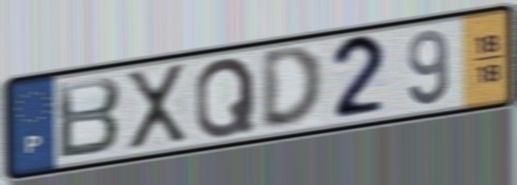2: (325, 31, 394, 128)
9: (405, 27, 451, 108)
B: (53, 74, 124, 163)
D: (258, 43, 327, 131)
Q: (192, 54, 258, 142)
X: (122, 60, 191, 155)
